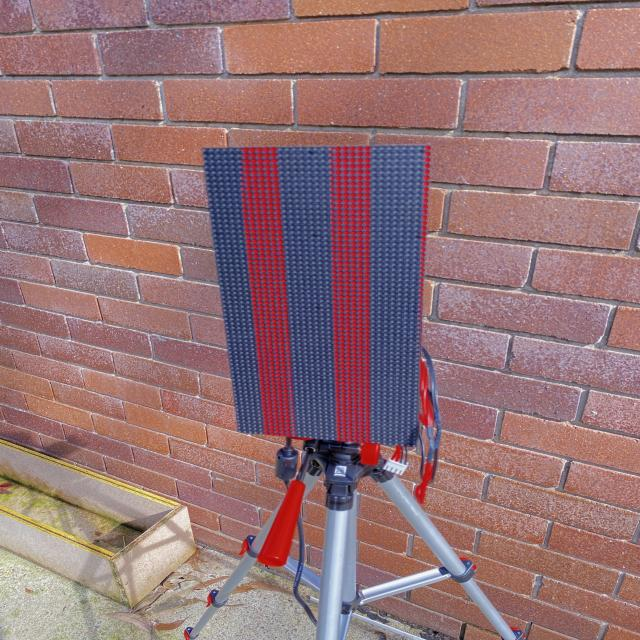matrix: (195, 146, 428, 452)
